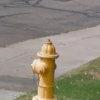Hydrant: (21, 30, 81, 100)
